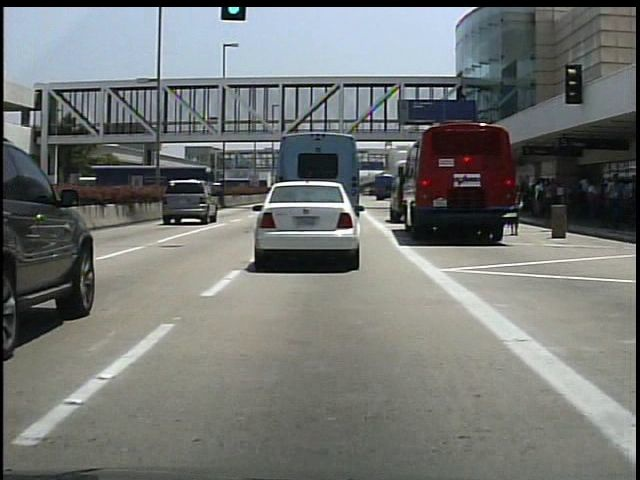person: (509, 186, 522, 236)
